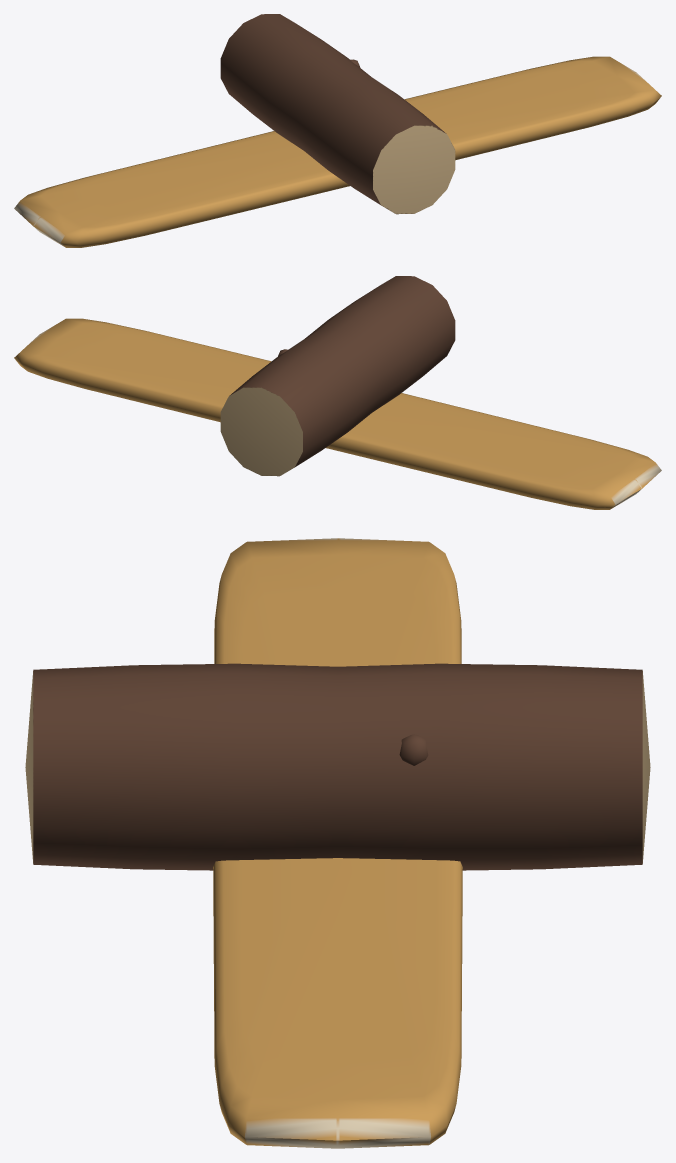
The model's file is bois.glb.
The picture shows the model from 3 angles, top to bottom: view 1: azimuth 30°, elevation 25°; view 2: azimuth 150°, elevation 25°; view 3: azimuth 270°, elevation 25°; orthographic projection. The views are drawn at different scales.
Parts seen in each view (by area): view 1: planche, buche; view 2: planche, buche; view 3: buche, planche.
Part boxes in pixels (x1,y1,x2,y2): planche: (14, 56, 661, 247); buche: (220, 14, 455, 214); planche: (14, 318, 661, 509); buche: (220, 276, 455, 476); buche: (25, 663, 650, 870); planche: (213, 538, 462, 1148).
Size of the model in its own units: 0.9 by 0.1326 by 0.4.
Materials: 1 (1 with a texture image).
